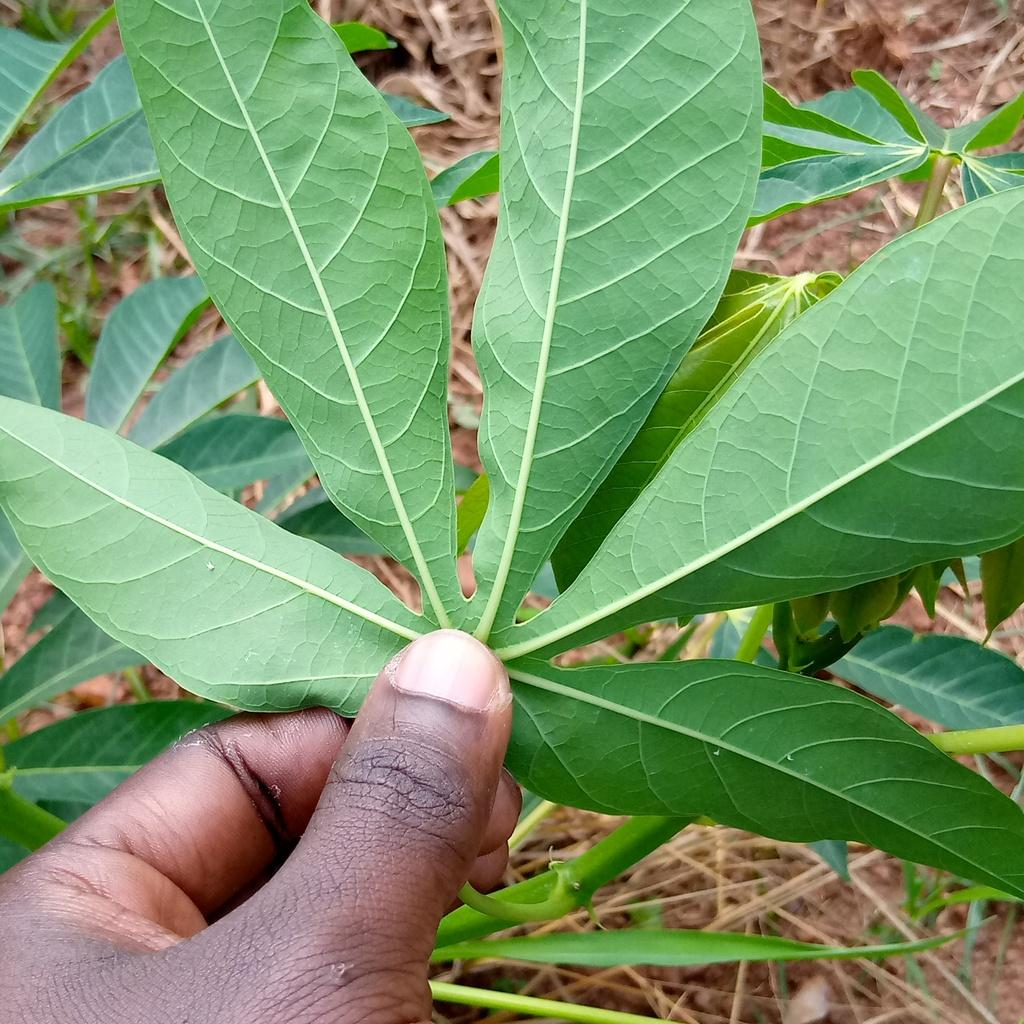adult: (206, 562, 215, 570), (713, 749, 720, 757), (787, 755, 794, 761)
